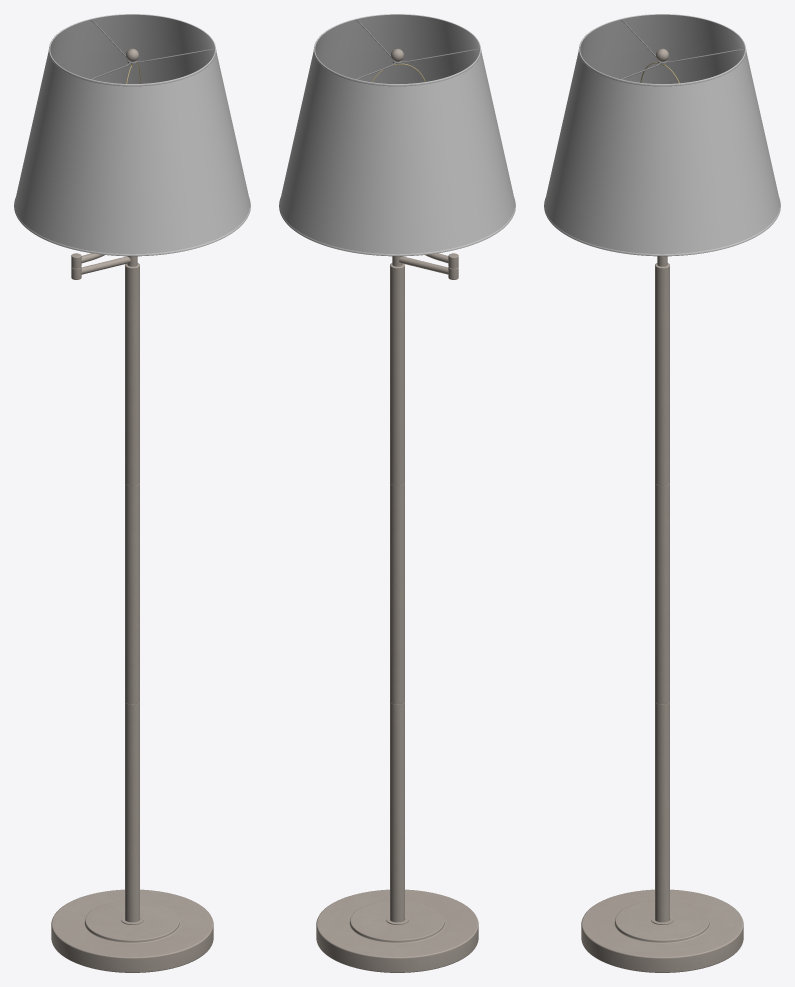
File: plant_B07DBDV3FH.glb
The picture shows the model from 3 angles, left to right: view 1: azimuth 30°, elevation 25°; view 2: azimuth 150°, elevation 25°; view 3: azimuth 270°, elevation 25°; orthographic projection.
Parts seen in each view (by area): view 1: RootNode; view 2: RootNode; view 3: RootNode.
Part boxes in pixels (x1,y1,x2,y2): RootNode: (14,14,250,972); RootNode: (279,14,515,972); RootNode: (544,14,780,972).
Size of the model in its own units: 0.3554 by 1.47 by 0.3554.
Materials: 1 (1 with a texture image).
